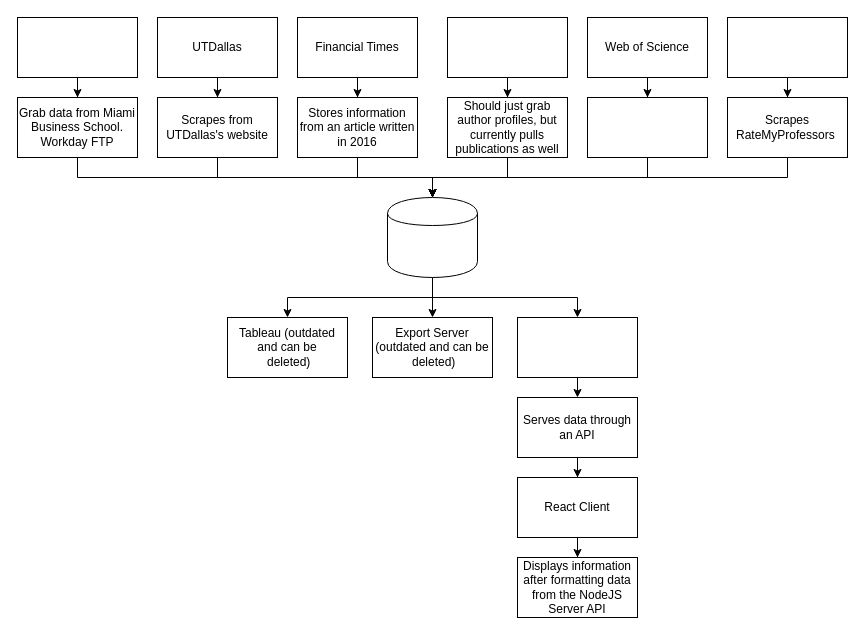
This 865x635 diagram has some shape labels left out. The shapes that lost their labels are listed below. From the top down, each one's centre as x and y in pixels, then its label:
At (x=77, y=47): "Miami Business School".
At (x=507, y=47): "Google Scholar".
At (x=787, y=47): "RateMyProfessors".
At (x=647, y=127): "Grabs information from an API".
At (x=432, y=237): "Table Setup Script".
At (x=577, y=347): "NodeJS Server".
